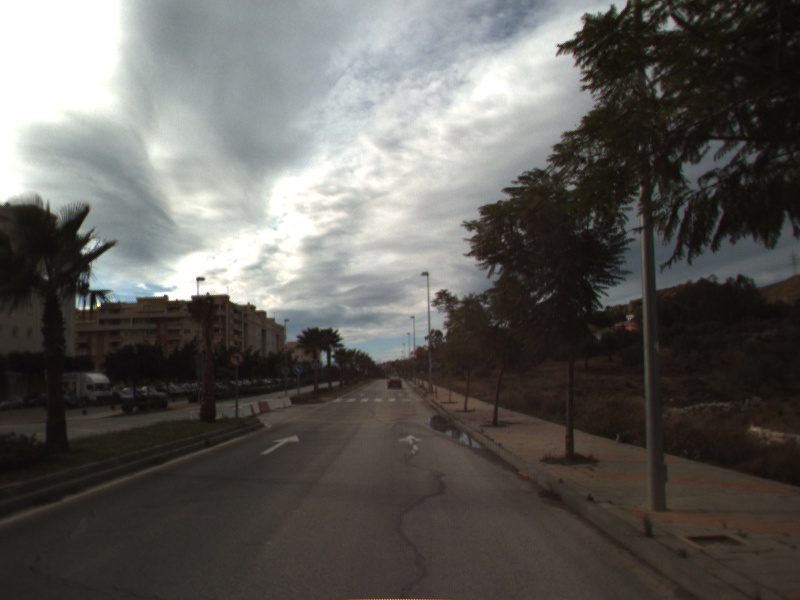STRAIGHT: (257, 433, 301, 457), (396, 432, 426, 457)
